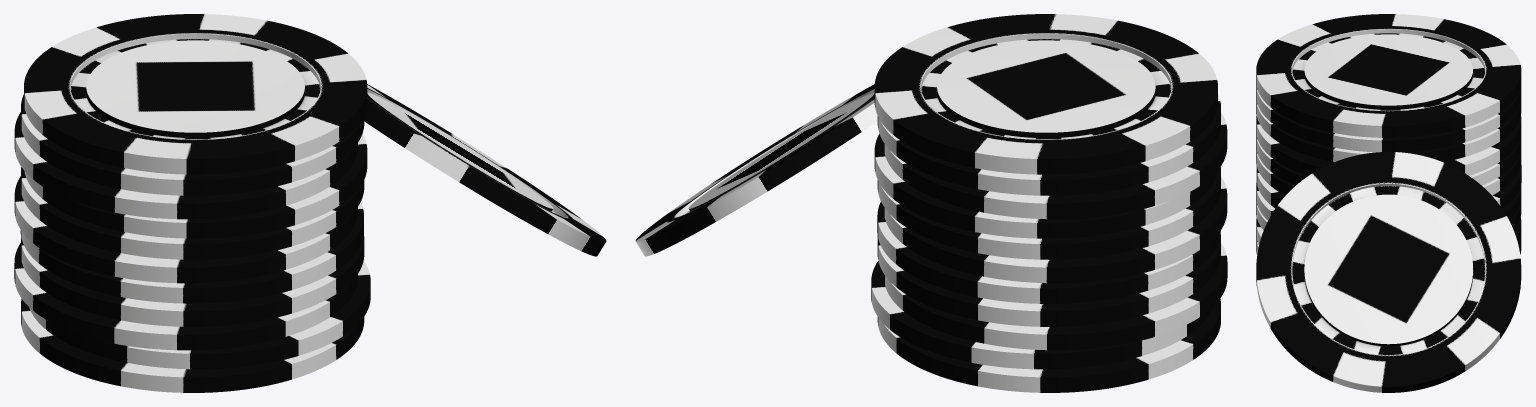
Rendered from smallChips.glb.
3 views of the same model, side by side, from view 1: azimuth 30°, elevation 25°; view 2: azimuth 150°, elevation 25°; view 3: azimuth 270°, elevation 25° (orthographic). The views are drawn at different scales.
Parts seen in each view (by area): view 1: Mid_Poly_Chip_Die009, Mid_Poly_Chip_Die011, Mid_Poly_Chip_Die008, Mid_Poly_Chip_Die006, Mid_Poly_Chip_Die003, Mid_Poly_Chip_Die, Mid_Poly_Chip_Die002, Mid_Poly_Chip_Die010, Mid_Poly_Chip_Die004, Mid_Poly_Chip_Die007, Mid_Poly_Chip_Die001, Mid_Poly_Chip_Die005; view 2: Mid_Poly_Chip_Die009, Mid_Poly_Chip_Die011, Mid_Poly_Chip_Die008, Mid_Poly_Chip_Die006, Mid_Poly_Chip_Die003, Mid_Poly_Chip_Die, Mid_Poly_Chip_Die002, Mid_Poly_Chip_Die010, Mid_Poly_Chip_Die004, Mid_Poly_Chip_Die007, Mid_Poly_Chip_Die001, Mid_Poly_Chip_Die005; view 3: Mid_Poly_Chip_Die011, Mid_Poly_Chip_Die009, Mid_Poly_Chip_Die010, Mid_Poly_Chip_Die008, Mid_Poly_Chip_Die005, Mid_Poly_Chip_Die004, Mid_Poly_Chip_Die006, Mid_Poly_Chip_Die007, Mid_Poly_Chip_Die002, Mid_Poly_Chip_Die003, Mid_Poly_Chip_Die001.
Part boxes in pixels (left/top/right/bottom): Mid_Poly_Chip_Die009: left=24, top=14, right=367, bottom=174; Mid_Poly_Chip_Die011: left=364, top=84, right=606, bottom=256; Mid_Poly_Chip_Die008: left=14, top=112, right=357, bottom=219; Mid_Poly_Chip_Die006: left=14, top=176, right=357, bottom=283; Mid_Poly_Chip_Die003: left=14, top=243, right=357, bottom=350; Mid_Poly_Chip_Die: left=21, top=298, right=364, bottom=392; Mid_Poly_Chip_Die002: left=21, top=234, right=364, bottom=326; Mid_Poly_Chip_Die010: left=21, top=94, right=364, bottom=195; Mid_Poly_Chip_Die004: left=21, top=167, right=364, bottom=259; Mid_Poly_Chip_Die007: left=20, top=202, right=363, bottom=303; Mid_Poly_Chip_Die001: left=29, top=261, right=370, bottom=369; Mid_Poly_Chip_Die005: left=24, top=134, right=367, bottom=238; Mid_Poly_Chip_Die009: left=874, top=14, right=1217, bottom=174; Mid_Poly_Chip_Die011: left=635, top=84, right=877, bottom=256; Mid_Poly_Chip_Die008: left=884, top=112, right=1227, bottom=219; Mid_Poly_Chip_Die006: left=884, top=176, right=1227, bottom=283; Mid_Poly_Chip_Die003: left=884, top=243, right=1227, bottom=350; Mid_Poly_Chip_Die: left=877, top=299, right=1220, bottom=392; Mid_Poly_Chip_Die002: left=877, top=235, right=1220, bottom=326; Mid_Poly_Chip_Die010: left=877, top=94, right=1220, bottom=195; Mid_Poly_Chip_Die004: left=877, top=167, right=1220, bottom=259; Mid_Poly_Chip_Die007: left=877, top=202, right=1220, bottom=303; Mid_Poly_Chip_Die001: left=871, top=261, right=1212, bottom=369; Mid_Poly_Chip_Die005: left=874, top=134, right=1217, bottom=238; Mid_Poly_Chip_Die011: left=1256, top=152, right=1521, bottom=392; Mid_Poly_Chip_Die009: left=1256, top=14, right=1521, bottom=137; Mid_Poly_Chip_Die010: left=1256, top=84, right=1521, bottom=152; Mid_Poly_Chip_Die008: left=1256, top=99, right=1521, bottom=162; Mid_Poly_Chip_Die005: left=1256, top=116, right=1521, bottom=175; Mid_Poly_Chip_Die004: left=1256, top=134, right=1521, bottom=185; Mid_Poly_Chip_Die006: left=1256, top=148, right=1521, bottom=195; Mid_Poly_Chip_Die007: left=1256, top=163, right=1521, bottom=208; Mid_Poly_Chip_Die002: left=1256, top=182, right=1521, bottom=220; Mid_Poly_Chip_Die003: left=1256, top=200, right=1521, bottom=230; Mid_Poly_Chip_Die001: left=1256, top=217, right=1521, bottom=244.
Size of the model in its own units: 3.64 by 1.52 by 2.
12 materials, 12 textured.
